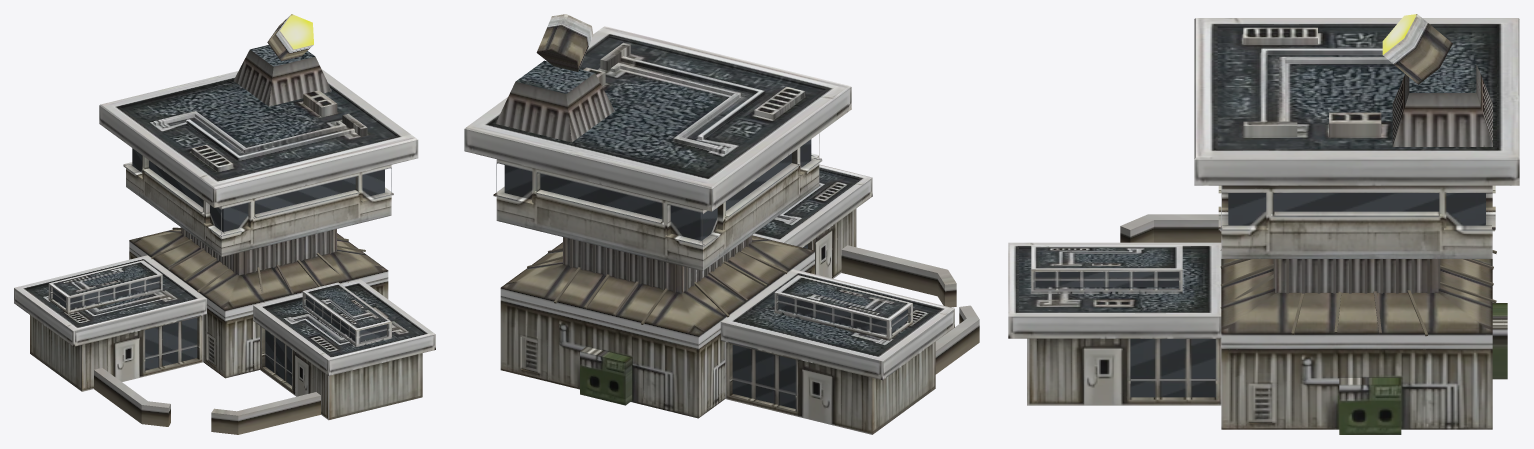
The model's file is s_spotlightcontrol_cad.glb.
3 renders of one model, left to right at view 1: azimuth 30°, elevation 25°; view 2: azimuth 150°, elevation 25°; view 3: azimuth 270°, elevation 25°, orthographic. The views are drawn at different scales.
Visible parts, largest first — view 1: S_SpotlightControl, Light; view 2: S_SpotlightControl, Light; view 3: S_SpotlightControl, Light.
Part boxes in pixels (x1,y1,x2,y2): S_SpotlightControl: (14,45,435,434); Light: (267,14,313,61); S_SpotlightControl: (464,26,979,434); Light: (536,14,593,71); S_SpotlightControl: (1008,18,1519,434); Light: (1382,14,1452,84).
Bounding box in the file's own units: 18.97 × 16.05 × 18.76.
2 materials, 2 textured.
